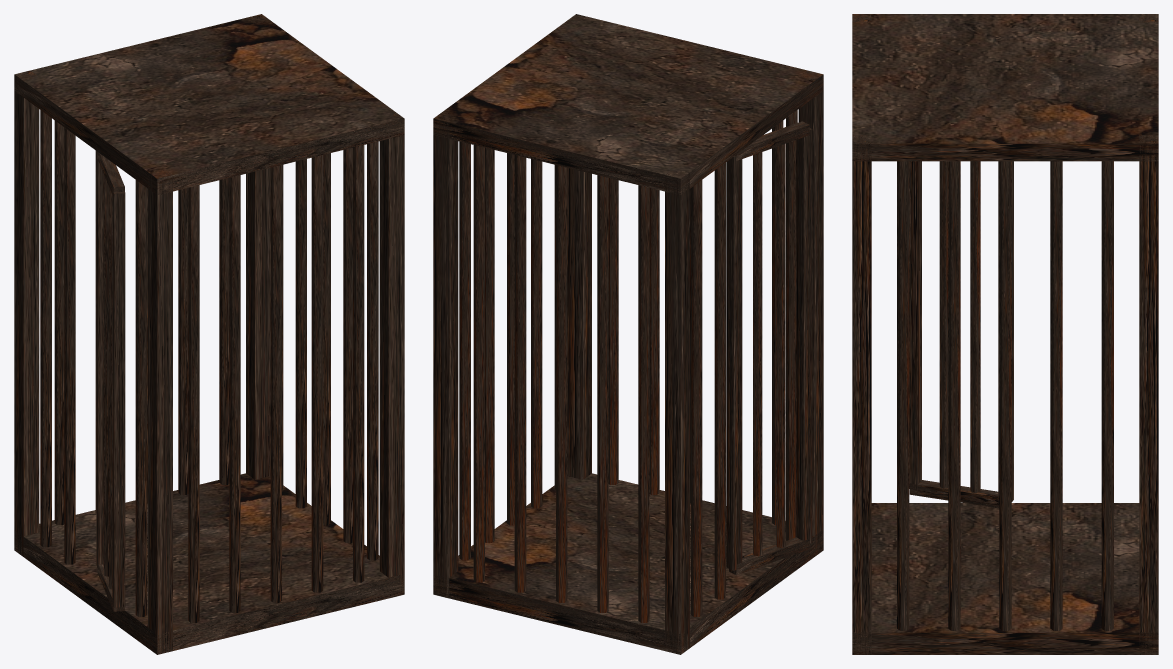
File: iron-cage-v01-photo.glb
3 views of the same model, side by side, from view 1: azimuth 30°, elevation 25°; view 2: azimuth 150°, elevation 25°; view 3: azimuth 270°, elevation 25° (orthographic). The views are drawn at different scales.
Parts seen in each view (by area): view 1: iron-cage; view 2: iron-cage; view 3: iron-cage.
Part boxes in pixels (<box>): iron-cage: <box>14,14,404,654</box>; iron-cage: <box>433,14,823,654</box>; iron-cage: <box>852,14,1158,654</box>.
Size of the model in its own units: 1.33 by 2.3 by 1.25.
Materials: 2 (2 with a texture image).
